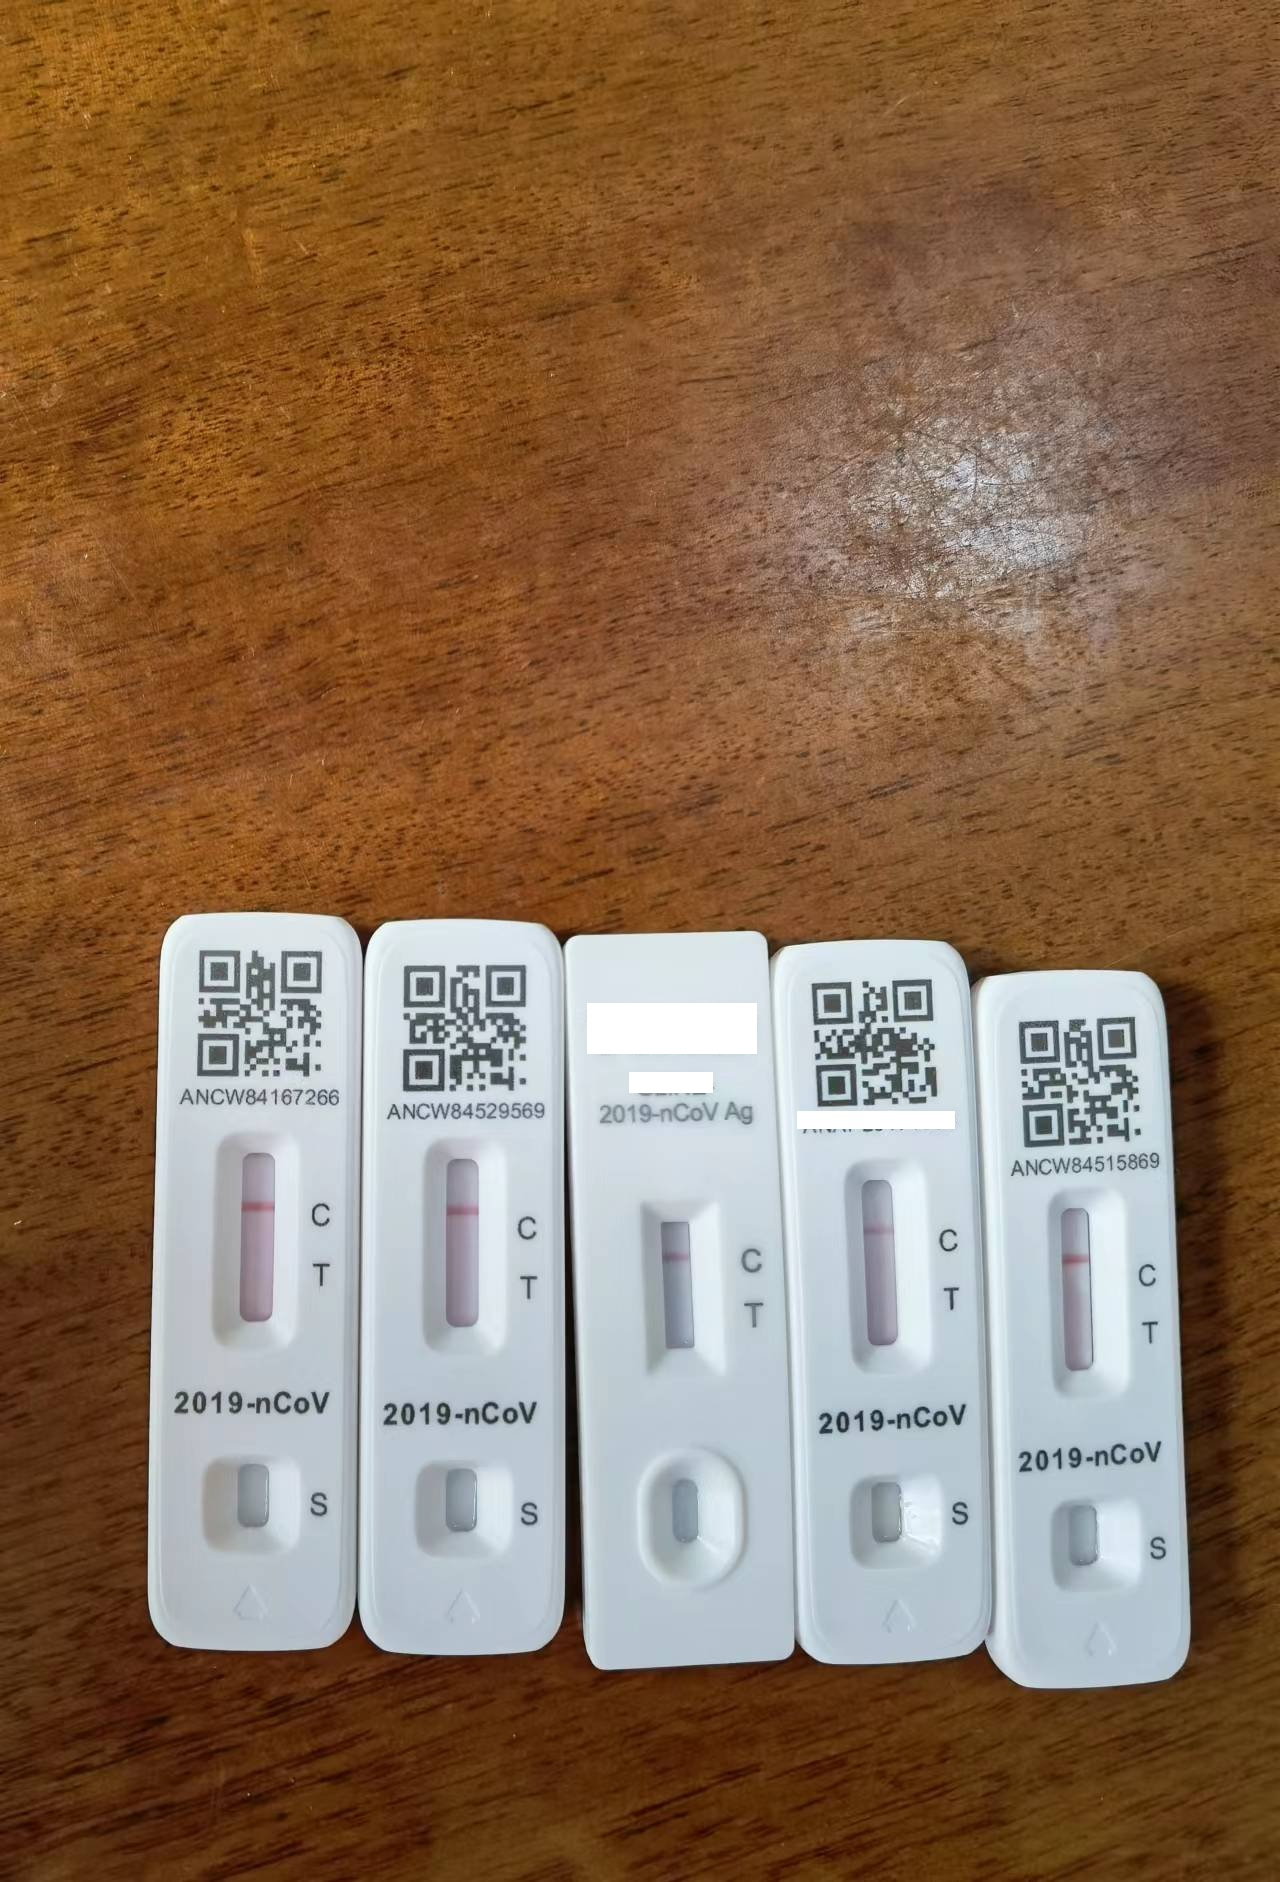negative: (213, 1132, 294, 1347), (421, 1144, 504, 1354), (844, 1159, 923, 1367), (1046, 1189, 1123, 1398), (641, 1199, 711, 1367)
